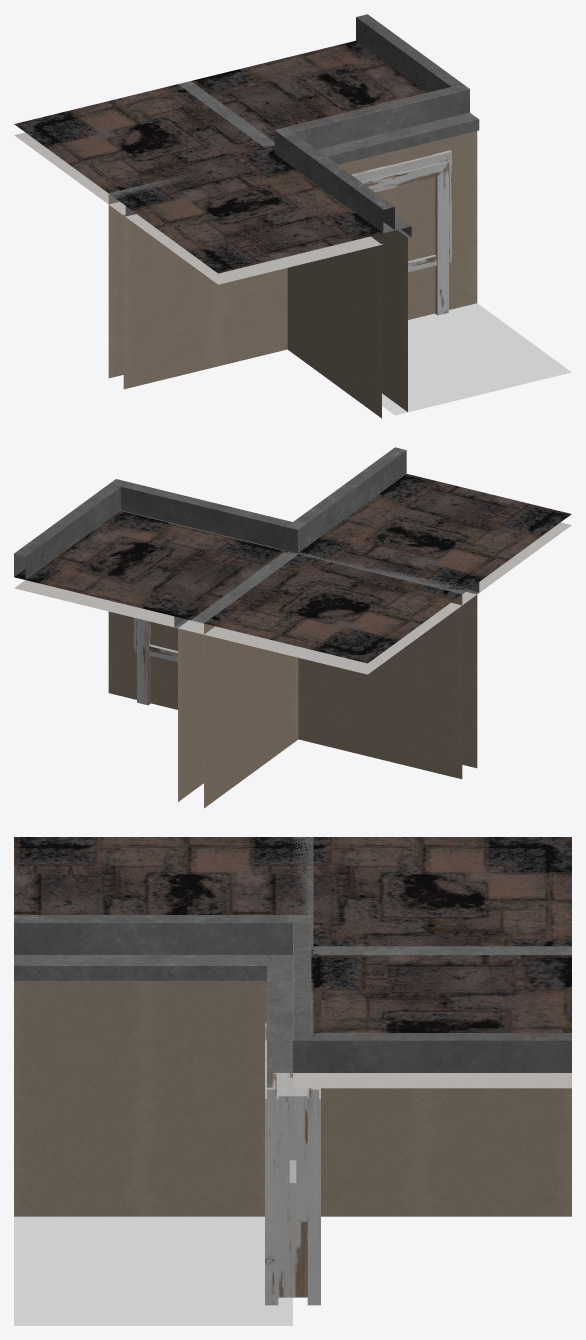
File: urbanBuilKitV2.fbx
3 views of the same model, one above another, from view 1: azimuth 30°, elevation 25°; view 2: azimuth 150°, elevation 25°; view 3: azimuth 270°, elevation 25° (orthographic). The views are drawn at different scales.
Parts seen in each view (by area): view 1: RoofOuter_corner1, Wall_corner2, Wall_corner1, RoofInner_plain, Floor, Wall_doorway, Wall_window, Wall_plain, RoofOuter_plain, RoofOuter_corner2; view 2: RoofOuter_corner1, Wall_corner2, RoofInner_plain, RoofOuter_corner2, RoofOuter_plain, Wall_window, Wall_plain, Wall_doorway; view 3: Wall_corner1, RoofOuter_corner1, Wall_corner2, Floor, RoofInner_plain, RoofOuter_corner2, Wall_window, Wall_doorway, RoofOuter_plain, Wall_plain.
Part boxes in pixels (x1,y1,x2,y2): RoofOuter_corner1: (14,84,394,284); Wall_corner2: (108,81,287,389); Wall_corner1: (287,113,479,418); RoofInner_plain: (191,40,426,141); Floor: (382,303,571,415); Wall_doorway: (319,112,477,315); Wall_window: (327,113,478,319); Wall_plain: (317,114,477,319); RoofOuter_plain: (192,41,469,149); RoofOuter_corner2: (321,14,469,119); RoofOuter_corner1: (121,447,571,674); Wall_corner2: (174,551,479,808); RoofInner_plain: (14,526,284,631); RoofOuter_corner2: (14,479,280,579); RoofOuter_plain: (15,510,292,630); Wall_window: (108,510,285,709); Wall_plain: (108,527,282,709); Wall_doorway: (108,512,285,705); Wall_corner1: (14,955,313,1216); RoofOuter_corner1: (14,837,571,1086); Wall_corner2: (270,837,571,1216); Floor: (14,1216,292,1325); RoofInner_plain: (293,955,571,1088); RoofOuter_corner2: (293,923,571,1080); Wall_window: (267,955,318,1239); Wall_doorway: (265,955,320,1305); RoofOuter_plain: (293,922,571,1088); Wall_plain: (267,955,313,1086).
Size of the model in its own units: 6 by 3.38 by 6.
